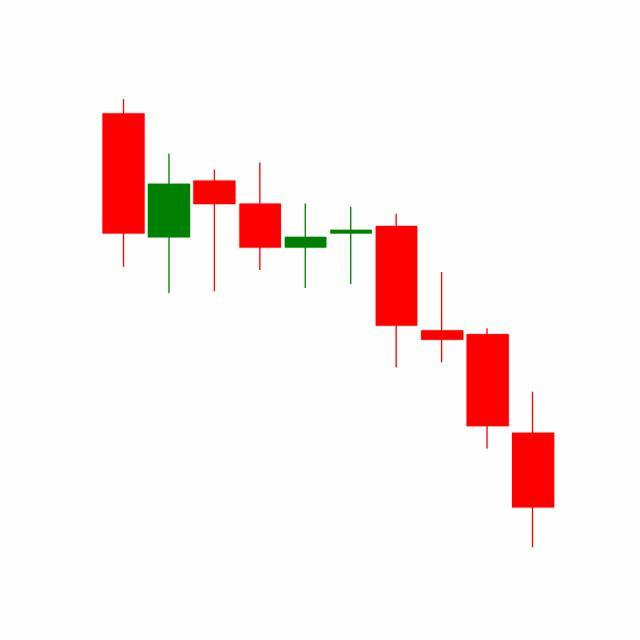Hikkake Pattern: (283, 202, 512, 453)
